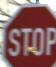Stop sign: (0, 0, 55, 66)
